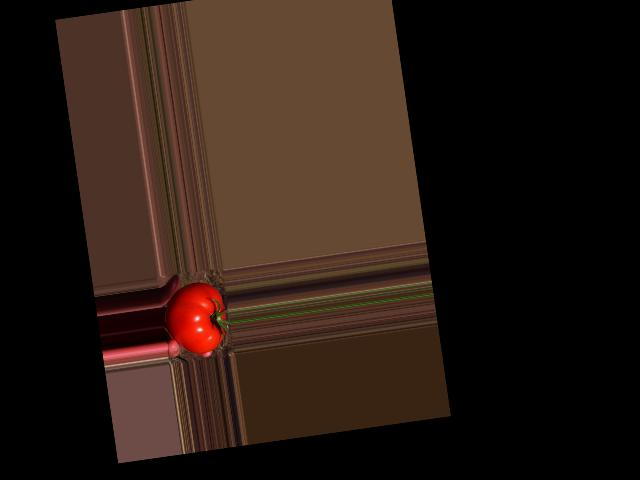tomato: (160, 280, 230, 358)
